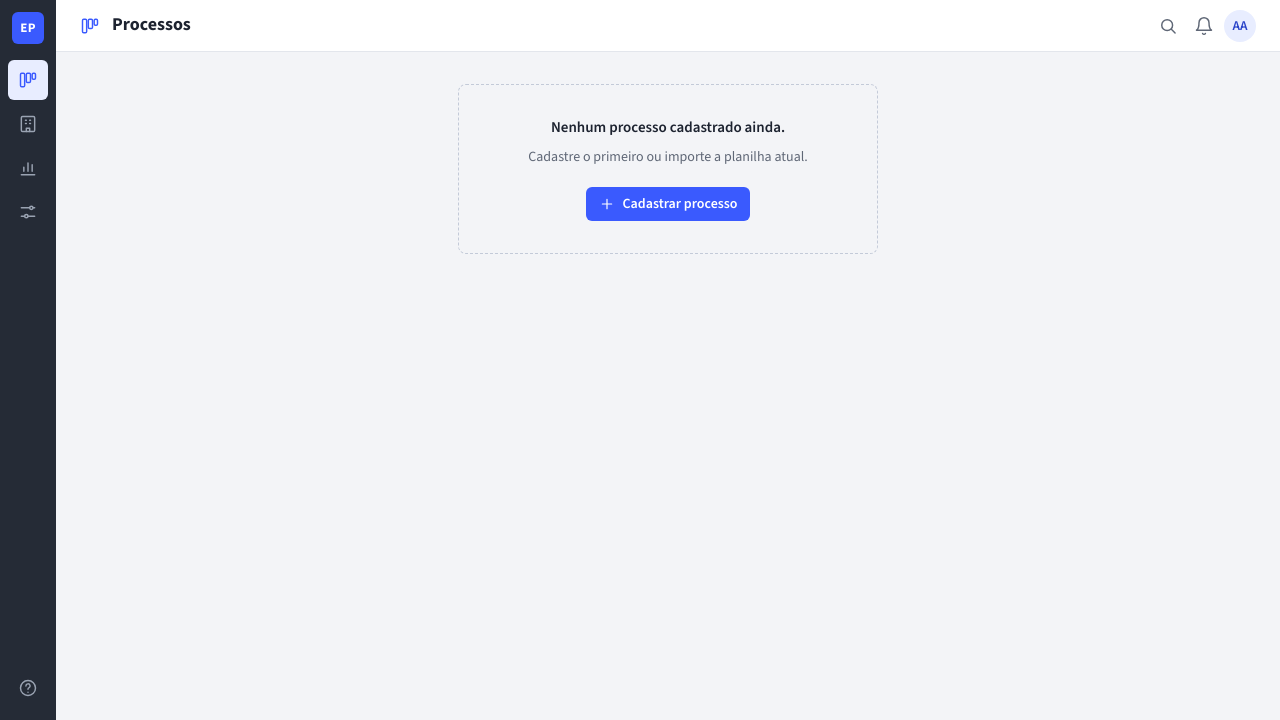
lista as tentativas da mais recente para a mais antiga, com origem, quando, resultado e motivo
Click the button named "Administração" at (28, 212), box [8,192,48,232]
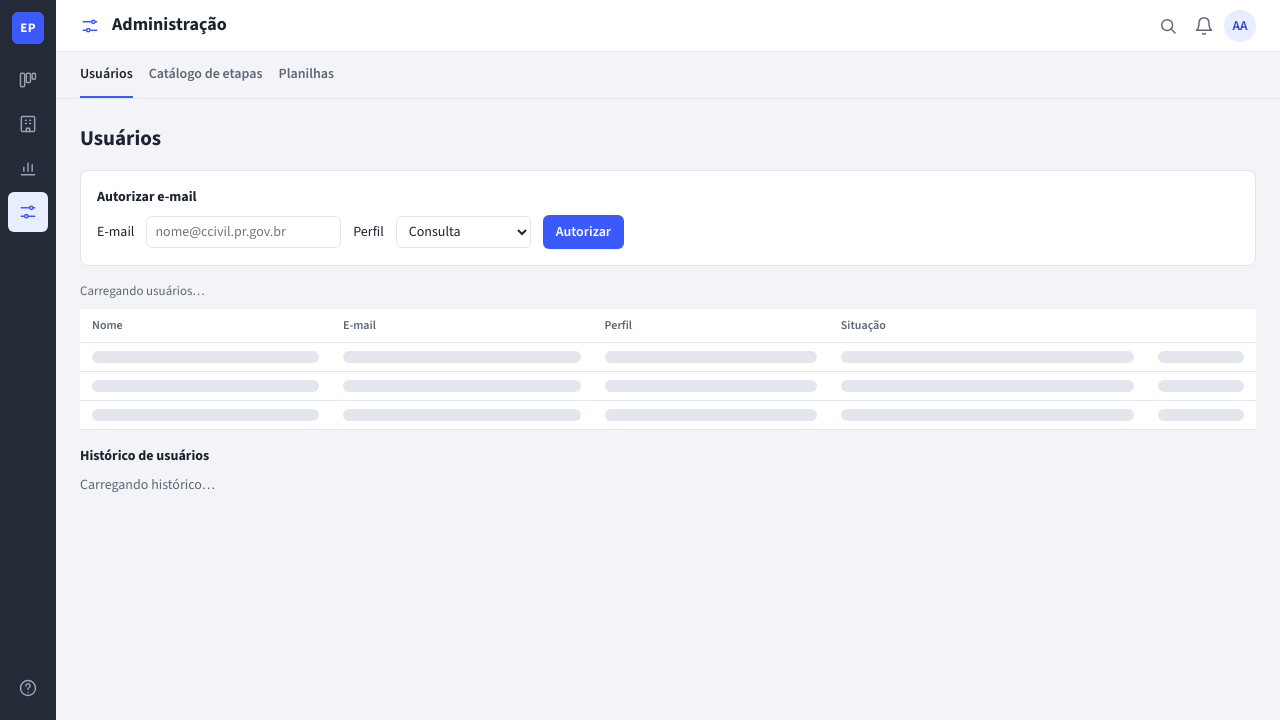
Click the tab "Planilhas" at (306, 75), box [278,52,334,98]
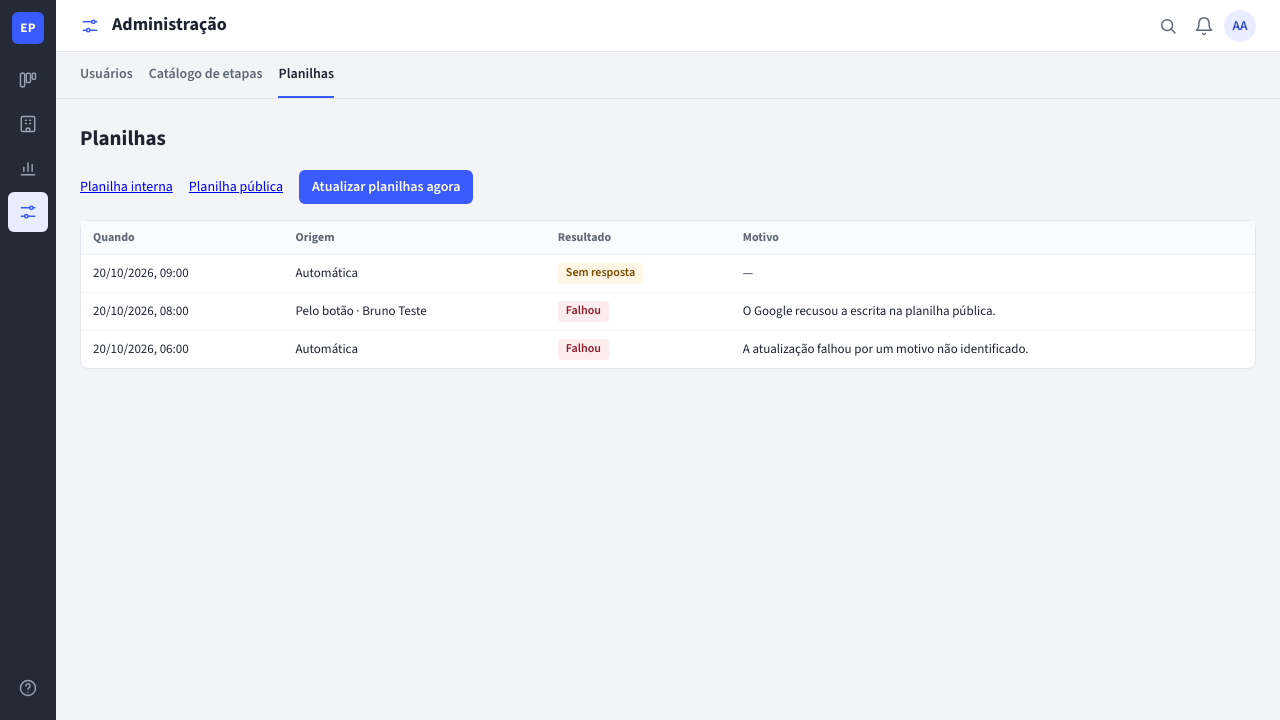
Expected: the heading "Planilhas" is shown, [80,123,166,153]
